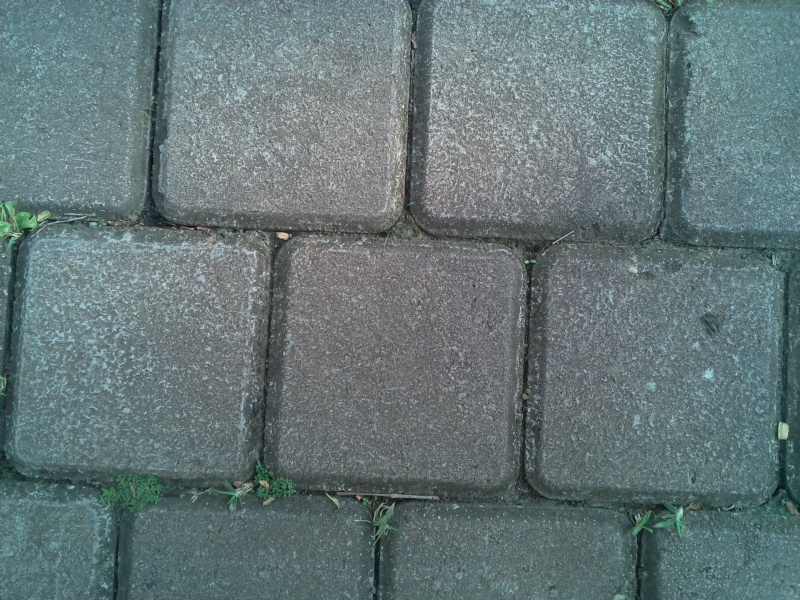Weed: (93, 469, 167, 517), (1, 193, 58, 250), (195, 468, 254, 518), (248, 460, 303, 507), (656, 497, 696, 544), (367, 501, 402, 548), (627, 501, 653, 544), (519, 254, 542, 273)
